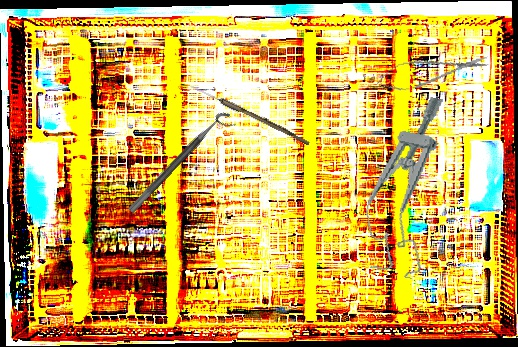Fixation Ring: (127, 108, 238, 222)
Micro Scissor: (374, 46, 492, 97)
Speculum: (354, 88, 456, 281)
Surgical Spoon: (188, 83, 312, 146)
